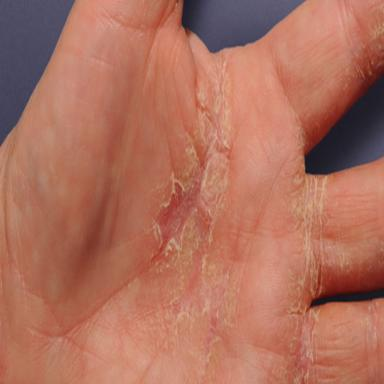eczema: (141, 63, 244, 378), (288, 168, 329, 384)
